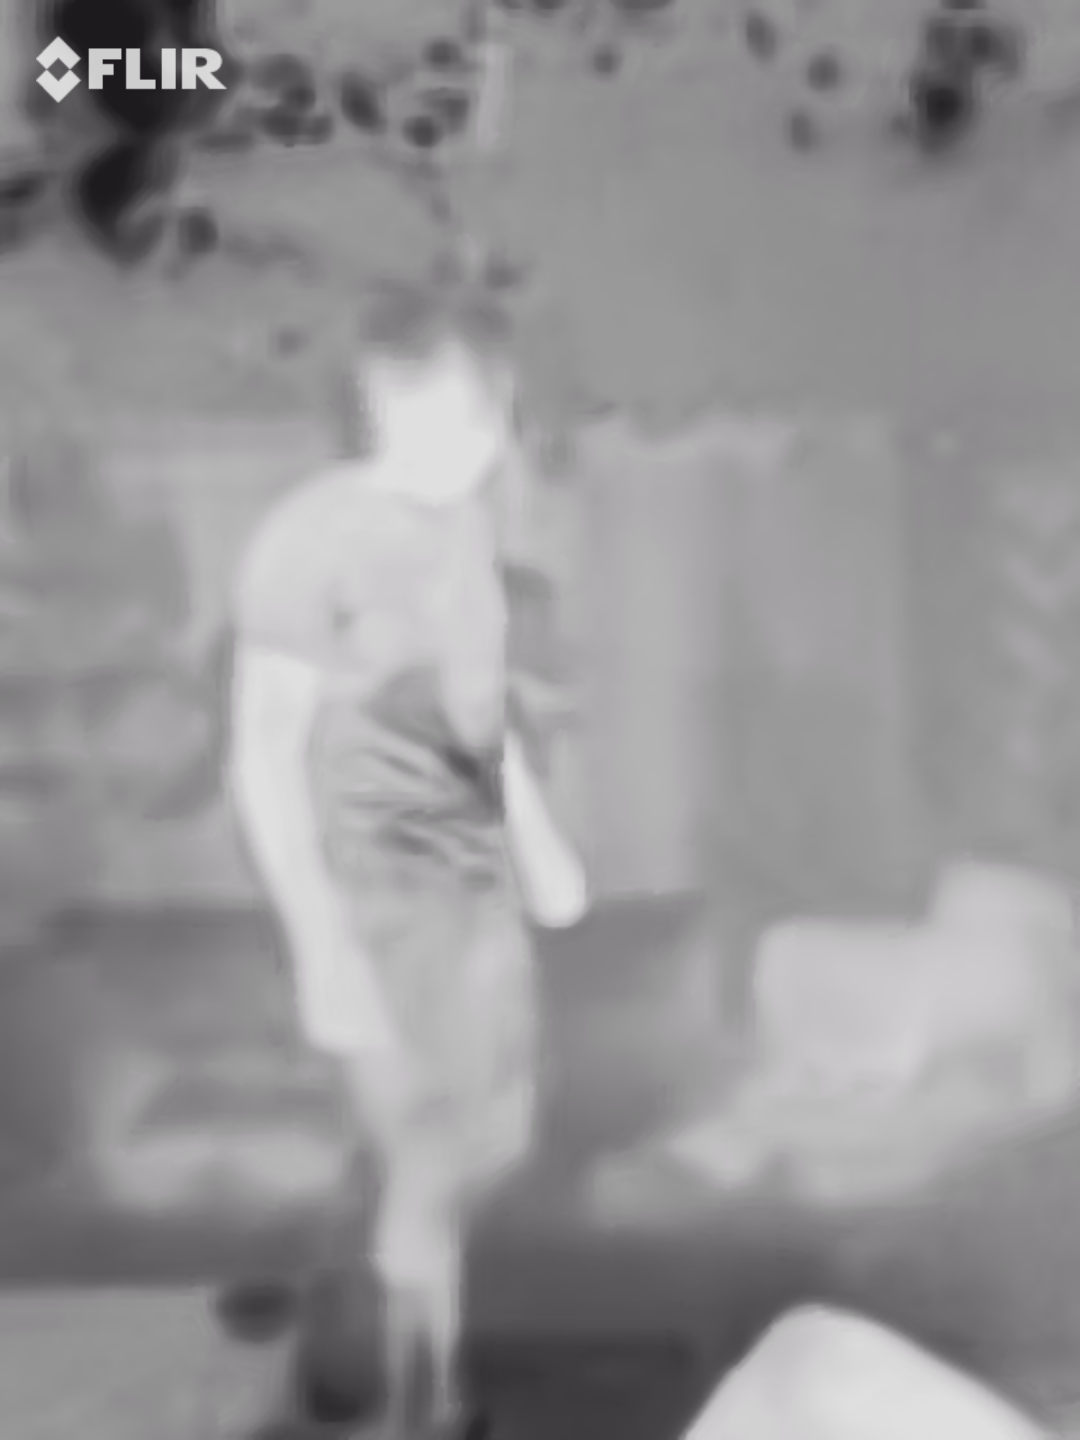head: (348, 283, 526, 506)
